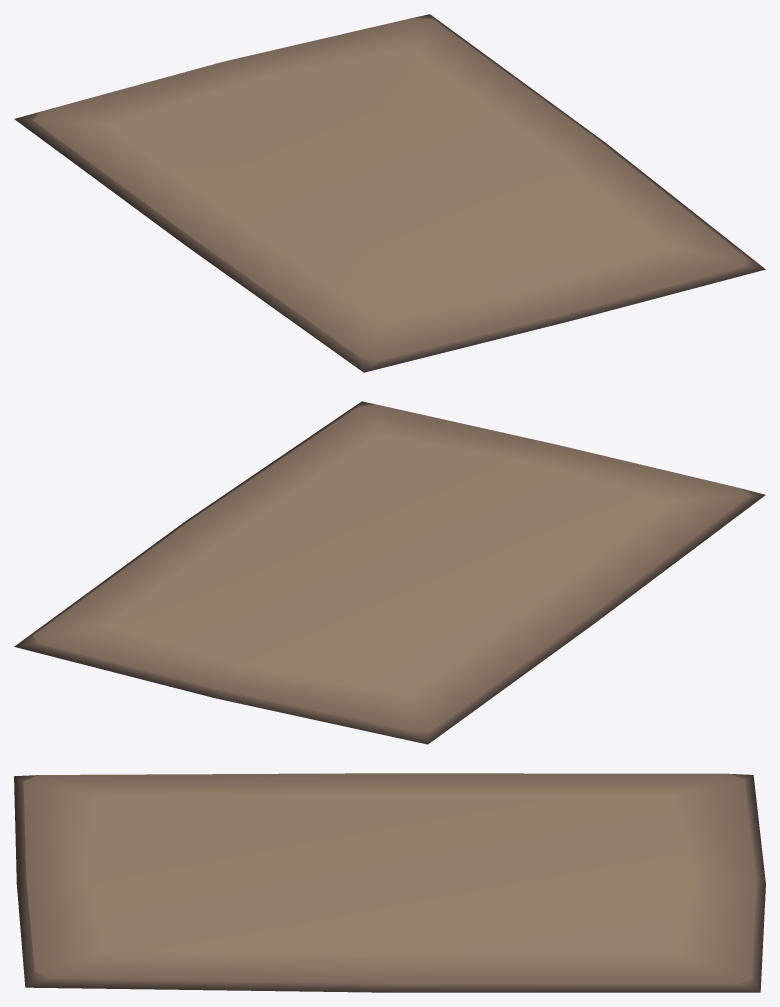
Rendered from TSP_Rug_03B.fbx.
3 views of the same model, one above another, from view 1: azimuth 30°, elevation 25°; view 2: azimuth 150°, elevation 25°; view 3: azimuth 270°, elevation 25° (orthographic). The views are drawn at different scales.
Visible parts, largest first — view 1: TSP_Rug_03B; view 2: TSP_Rug_03B; view 3: TSP_Rug_03B.
Boxes of the visible parts, box(x1,y1,x2,y2) form: TSP_Rug_03B: box(14, 14, 765, 372); TSP_Rug_03B: box(14, 401, 765, 744); TSP_Rug_03B: box(14, 773, 765, 992).
Bounding box in the file's own units: 1.35 × 0.0225 × 1.97.
